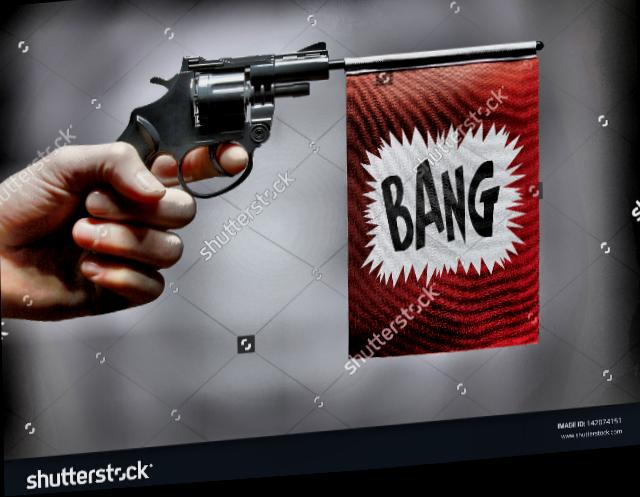pistol: (89, 45, 329, 223)
